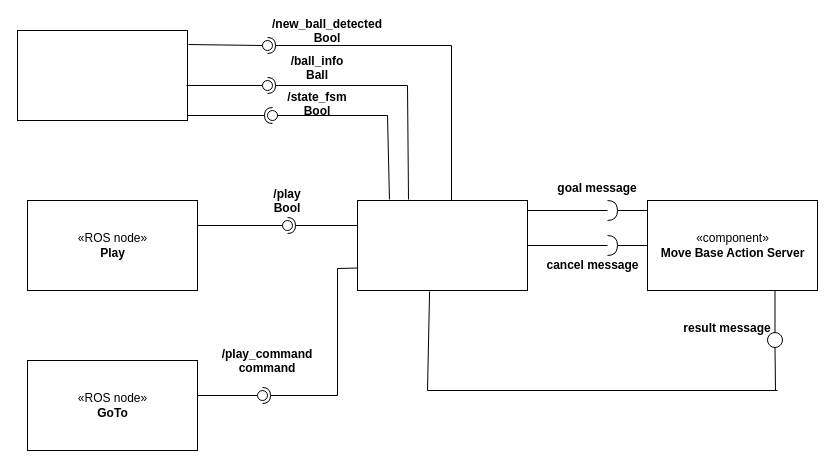
This 835x468 diagram has some shape labels left out. The centre of each missing label's shape, as x and y in pixels:
«ROS node» Object Detection: (102,75)
«ROS node» State Machine: (442,245)
